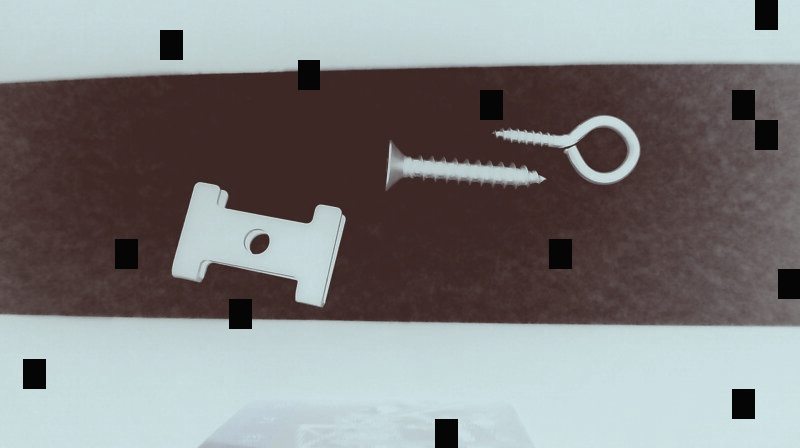O001: (490, 114, 645, 186)
O002: (169, 179, 348, 307)
S001: (383, 136, 551, 197)
